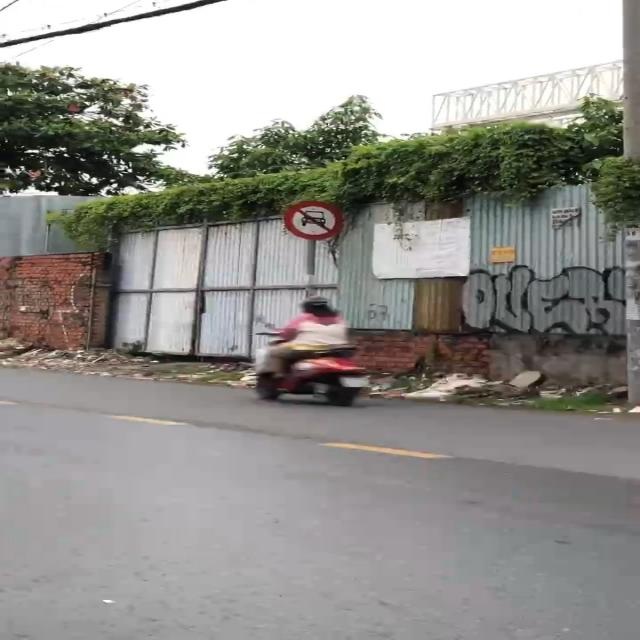Bien bao cam xe oto: (281, 199, 346, 243)
